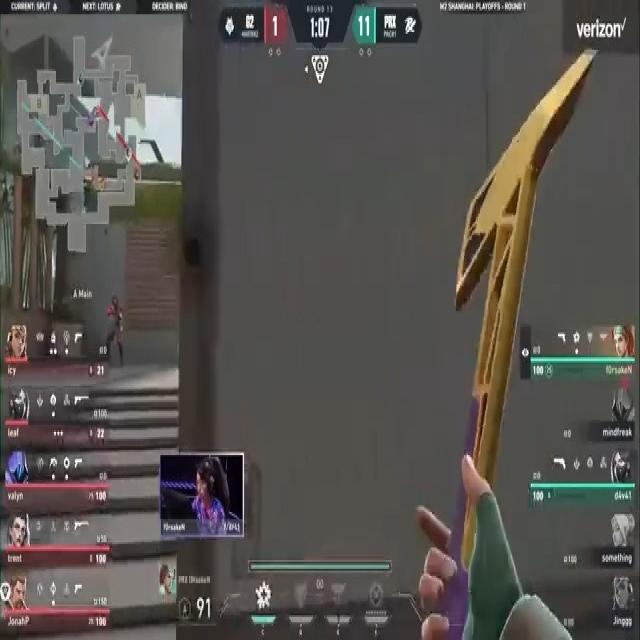enemy: (104, 289, 128, 368)
